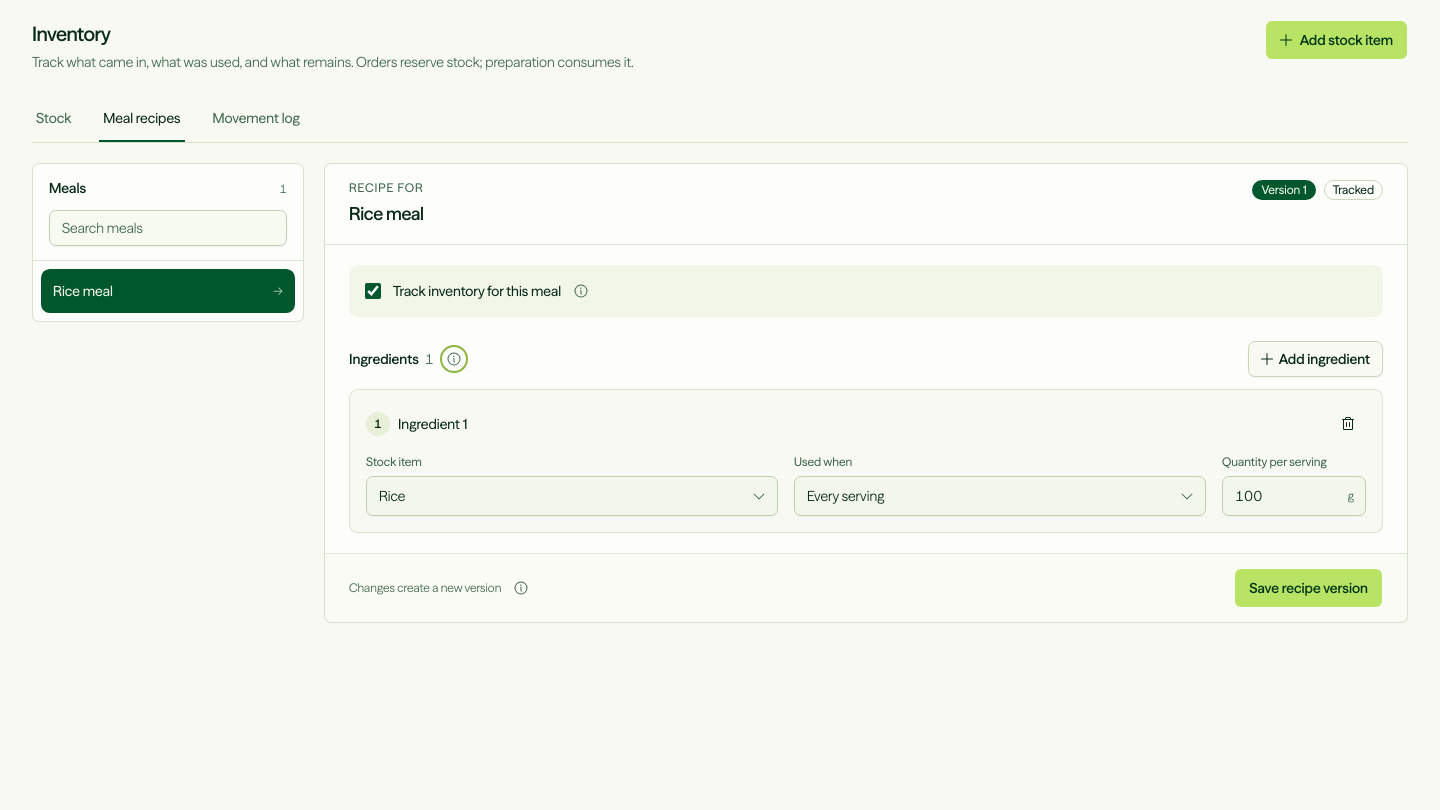
Test case: inventory workspace › keeps recipe explanations in accessible info popovers
Check: the text "Version 1" is shown, box [1252, 180, 1316, 200]
Check: the checkbox labelled "Track inventory for this meal" is shown, box [365, 283, 381, 299]
Click the button named "About recipe quantities".
click(454, 359)  # box [442, 347, 466, 371]
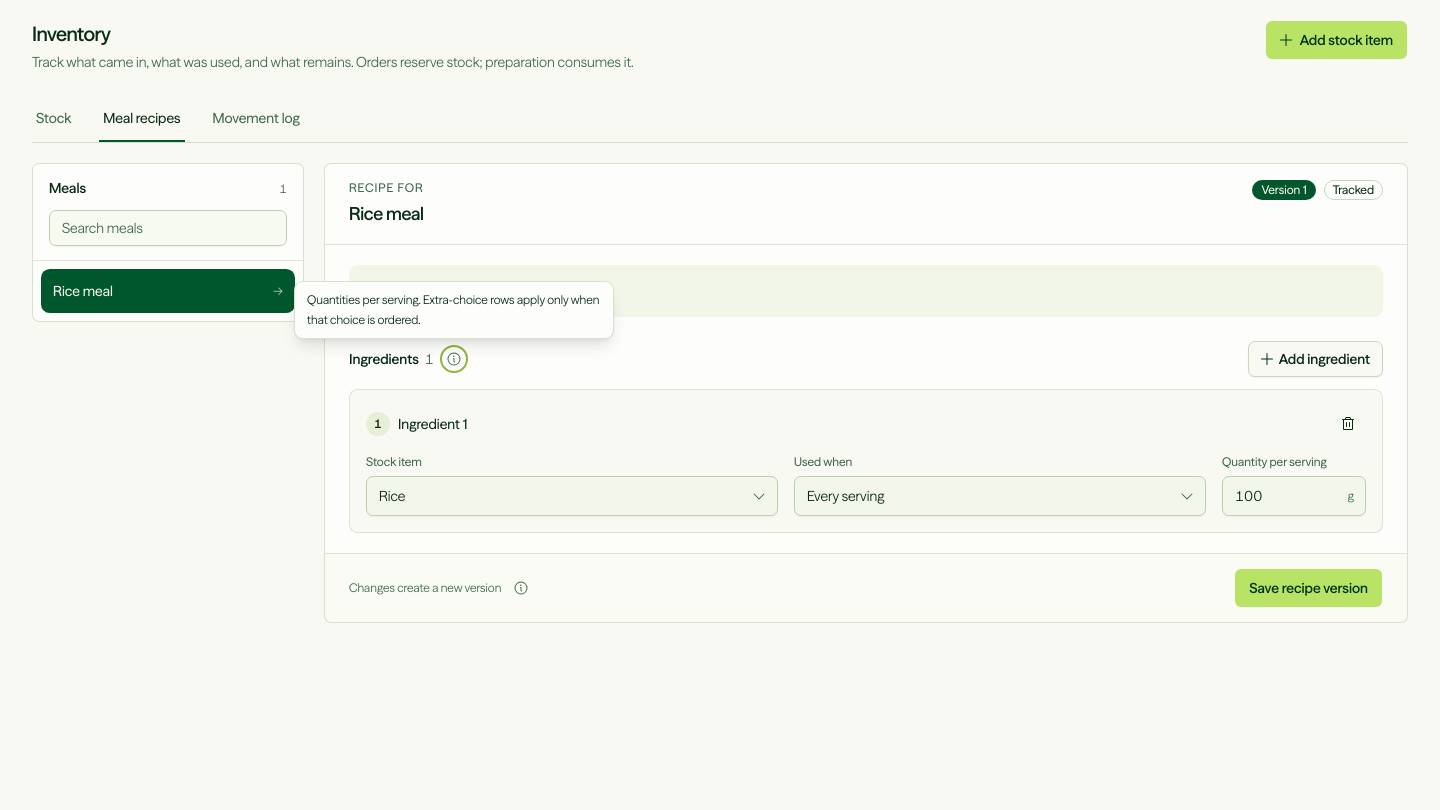
Check: the text "Quantities per serving" is shown, box [307, 292, 599, 327]
Press Escape in the dialog, box [294, 281, 614, 339]
Click the button named "About inventory tracking".
click(581, 291)  # box [569, 279, 593, 303]
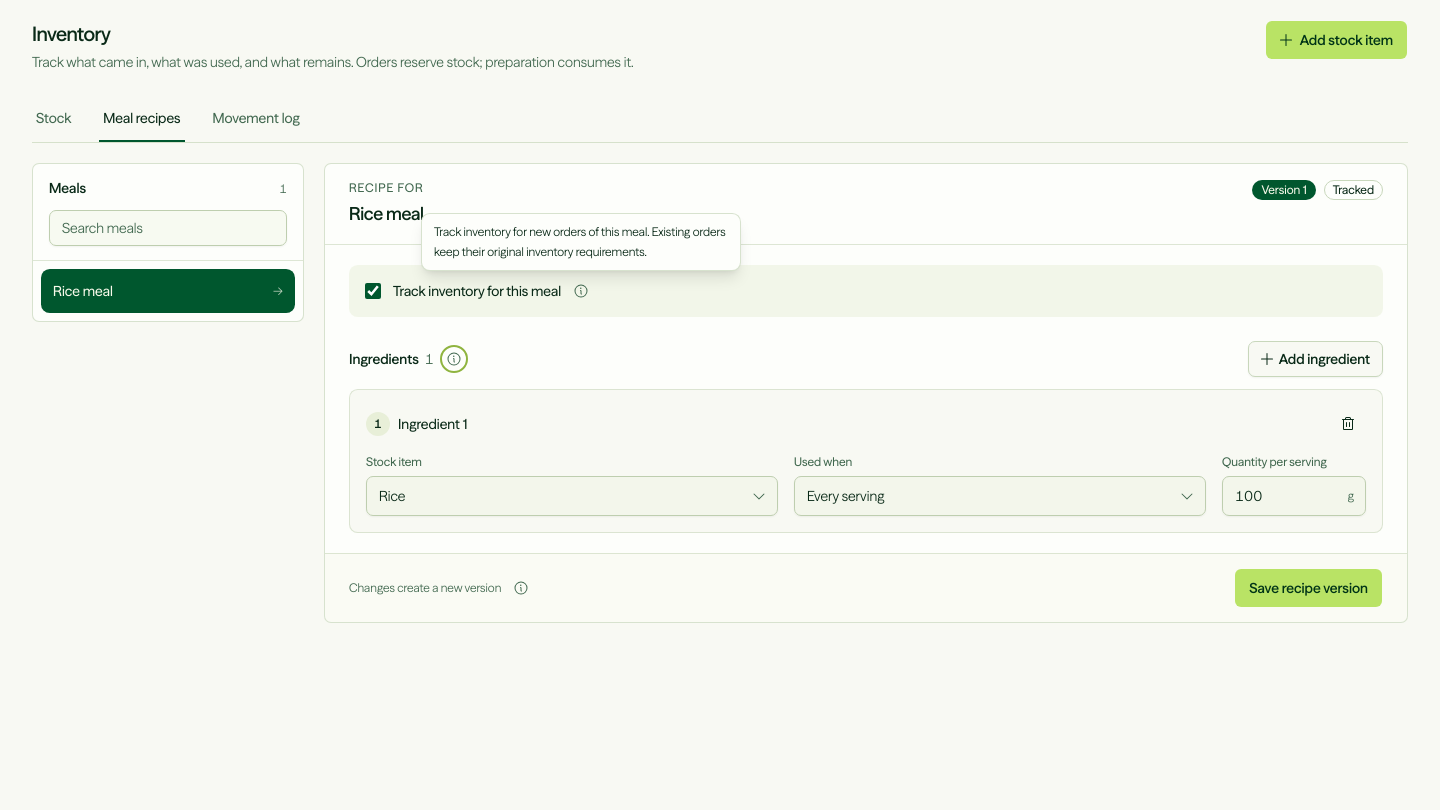
Check: the text "Existing orders keep their" is shown, box [434, 224, 726, 259]
Press Escape in the dialog, box [421, 213, 741, 271]
Click the button named "About saving recipe versions".
click(521, 588)  # box [509, 576, 533, 600]
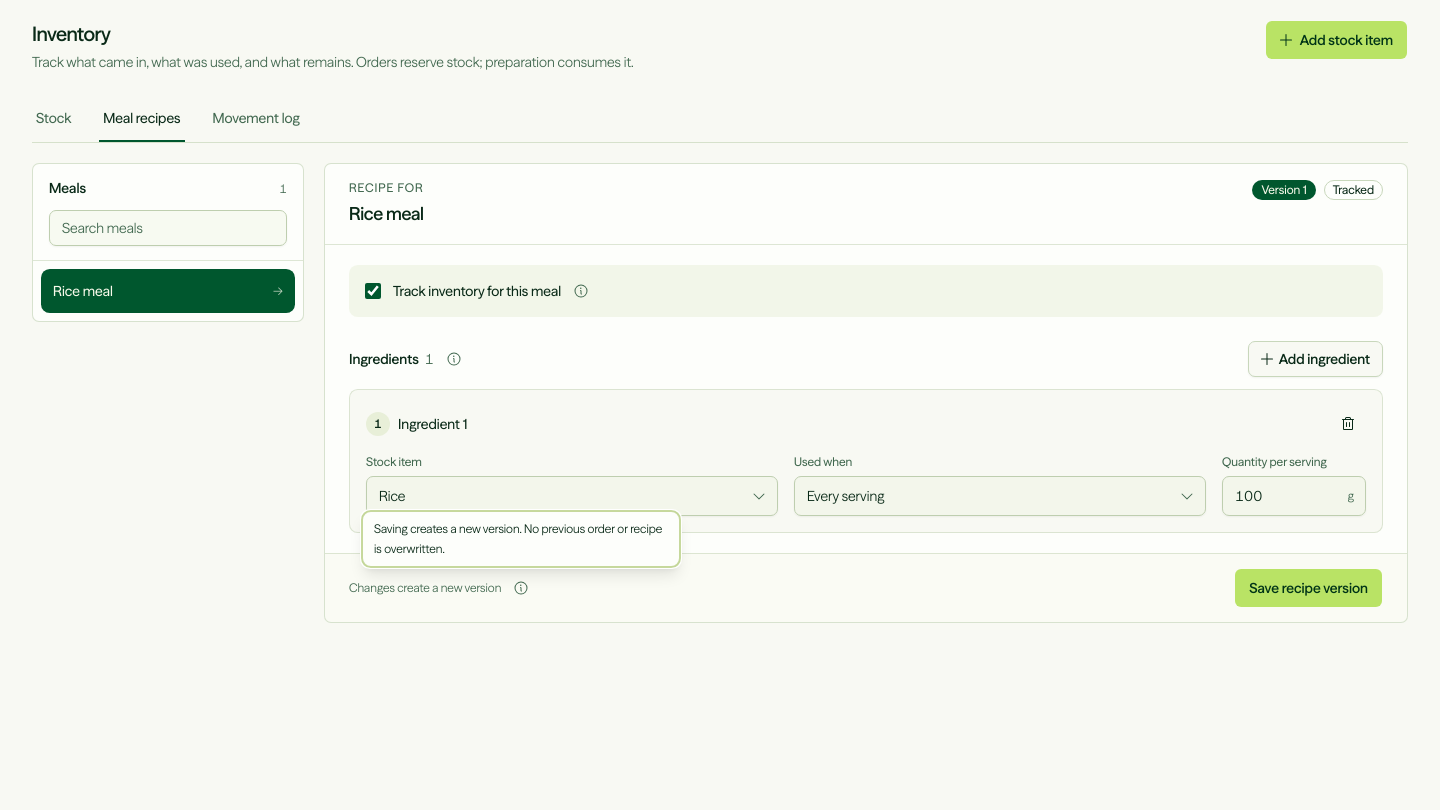
Check: the text "Saving creates a new version" is shown, box [374, 521, 662, 556]
